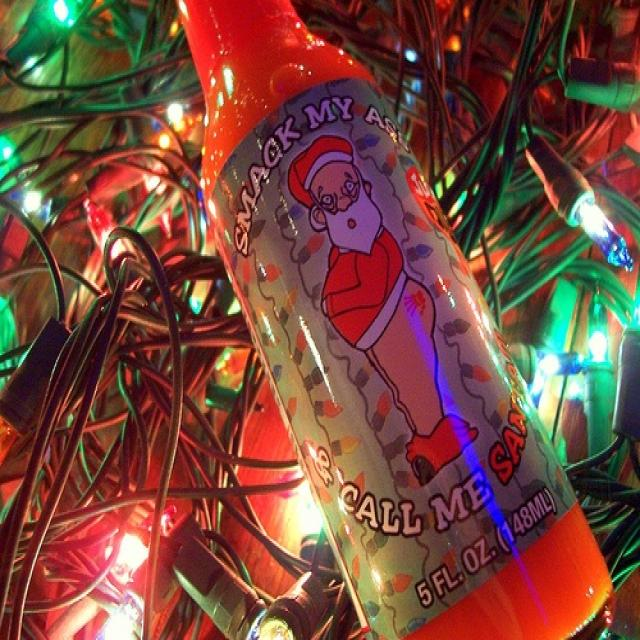bottle: (172, 3, 618, 639)
